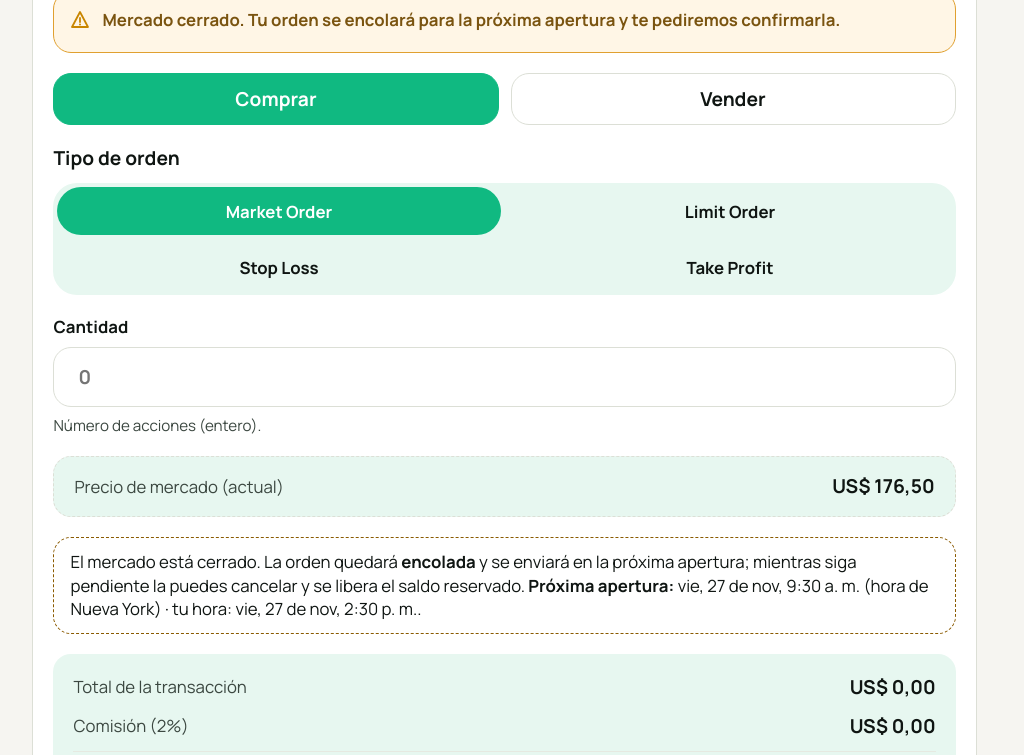
Test: pantalla Operar (SCRUM-61) › «Volver» en la confirmación no envía nada
(page scrolled)
In the field labelled "Cantidad": coordinates (505, 377) [70, 348, 939, 406], type "1"
(page scrolled)
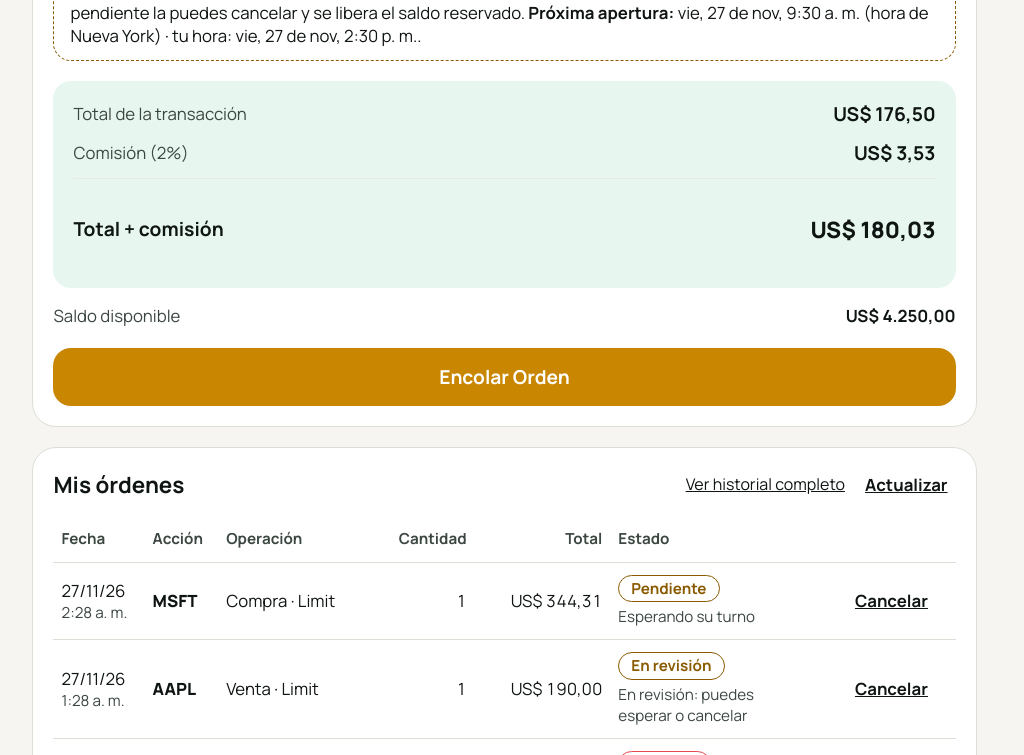
Click the button "Encolar Orden": coordinates (505, 376) [54, 348, 956, 406]
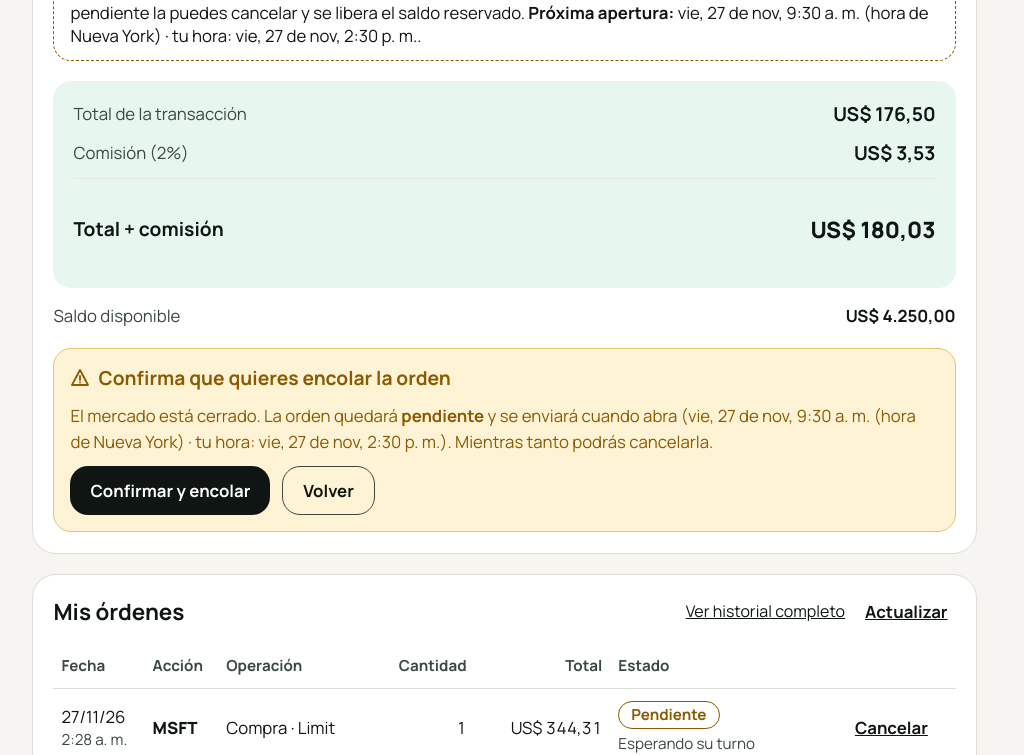
Click the button "Volver": coordinates (329, 491) [282, 466, 375, 515]
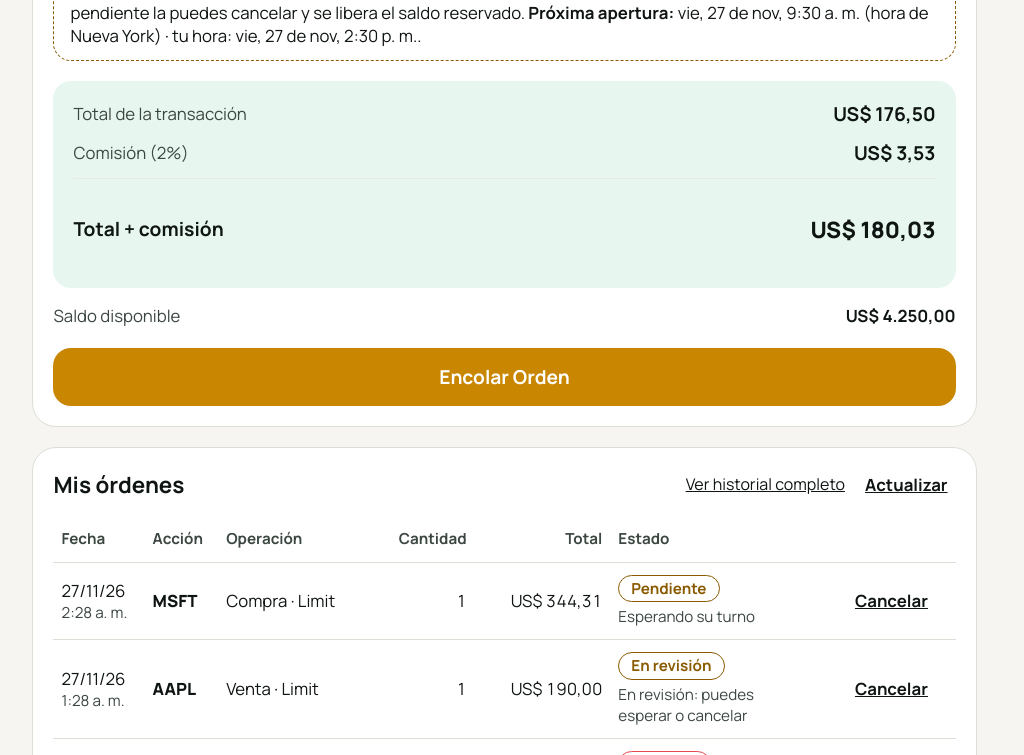
Expected: the button "Encolar Orden" is shown, [54, 348, 956, 406]
